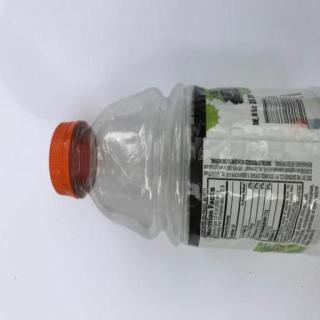Plastic-bottle: (49, 82, 320, 252)
